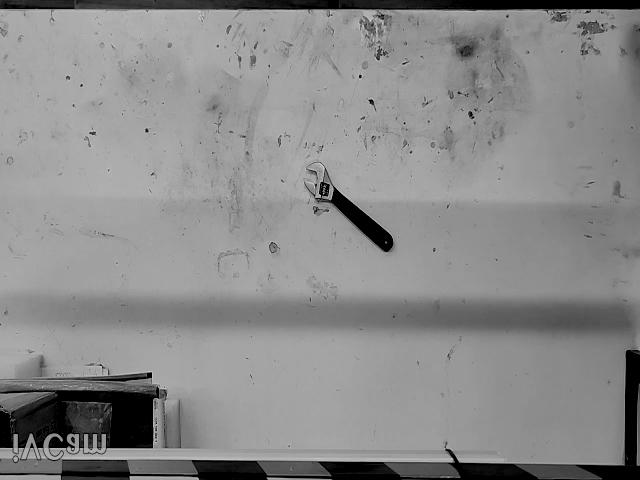Adjustable spanner: (303, 162, 394, 252)
